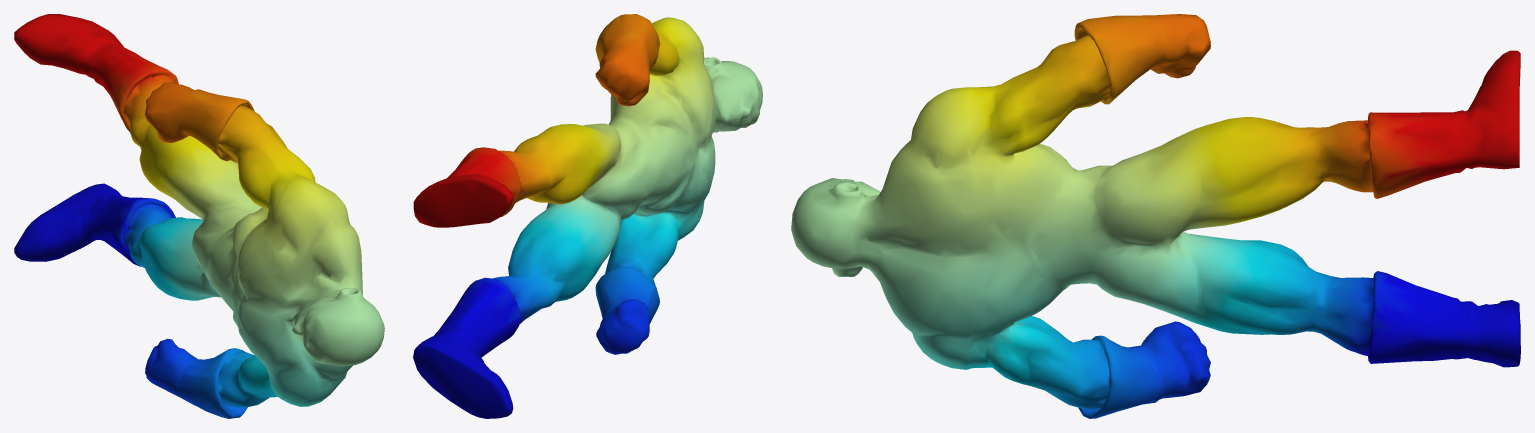
File: jared_ours_poisson.glb
The picture shows the model from 3 angles, left to right: view 1: azimuth 30°, elevation 25°; view 2: azimuth 150°, elevation 25°; view 3: azimuth 270°, elevation 25°; orthographic projection. The views are drawn at different scales.
Visible parts, largest first — view 1: jared_fixed.obj; view 2: jared_fixed.obj; view 3: jared_fixed.obj.
Part boxes in pixels (x1=…): jared_fixed.obj: x1=14, y1=14, x2=384, y2=418; jared_fixed.obj: x1=413, y1=14, x2=762, y2=418; jared_fixed.obj: x1=791, y1=14, x2=1520, y2=418.
Size of the model in its own units: 0.4244 by 1.1 by 1.85.
